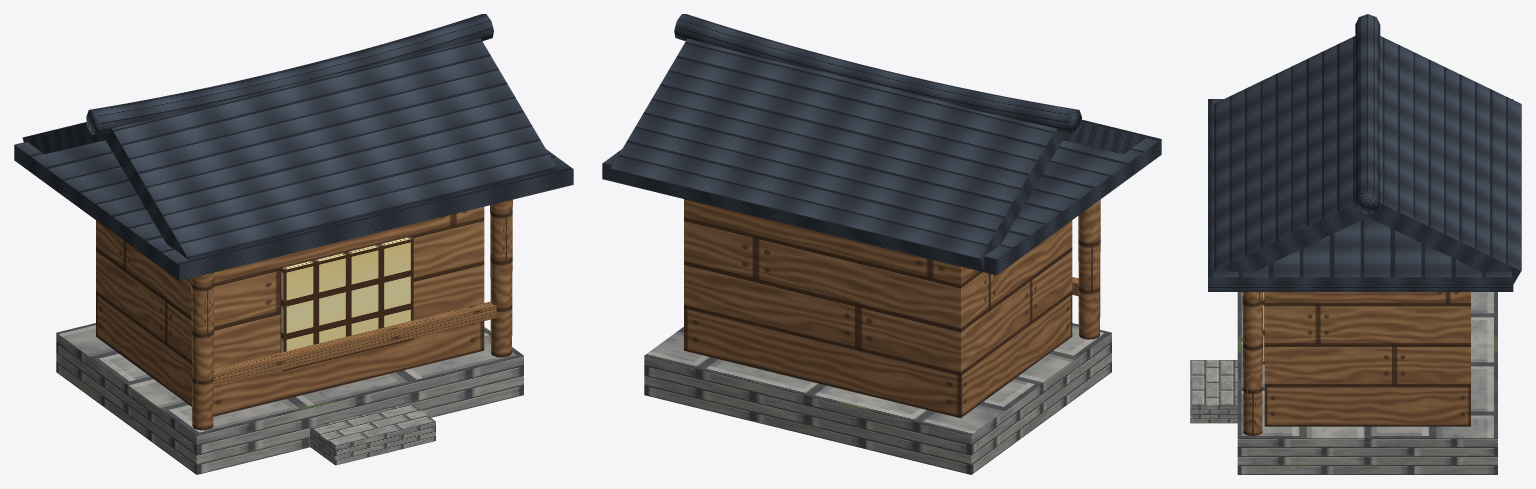
File: prop_onsen_house.obj
3 views of the same model, side by side, from view 1: azimuth 30°, elevation 25°; view 2: azimuth 150°, elevation 25°; view 3: azimuth 270°, elevation 25° (orthographic). The views are drawn at different scales.
Parts seen in each view (by area): view 1: onsen_tiled_roof, onsen_timber_body, onsen_foundation, onsen_shoji_window; view 2: onsen_tiled_roof, onsen_timber_body, onsen_foundation; view 3: onsen_tiled_roof, onsen_timber_body, onsen_foundation.
Boxes of the visible parts, bbox=[...] form: onsen_tiled_roof: bbox=[14, 14, 573, 280]; onsen_timber_body: bbox=[96, 199, 512, 430]; onsen_foundation: bbox=[56, 323, 523, 474]; onsen_shoji_window: bbox=[280, 236, 413, 370]; onsen_tiled_roof: bbox=[602, 14, 1161, 275]; onsen_timber_body: bbox=[684, 199, 1100, 418]; onsen_foundation: bbox=[644, 323, 1111, 474]; onsen_tiled_roof: bbox=[1208, 14, 1521, 291]; onsen_timber_body: bbox=[1242, 292, 1470, 435]; onsen_foundation: bbox=[1190, 292, 1497, 474].
Size of the model in its own units: 4.72 by 3.66 by 3.69.
4 materials, 4 textured.
